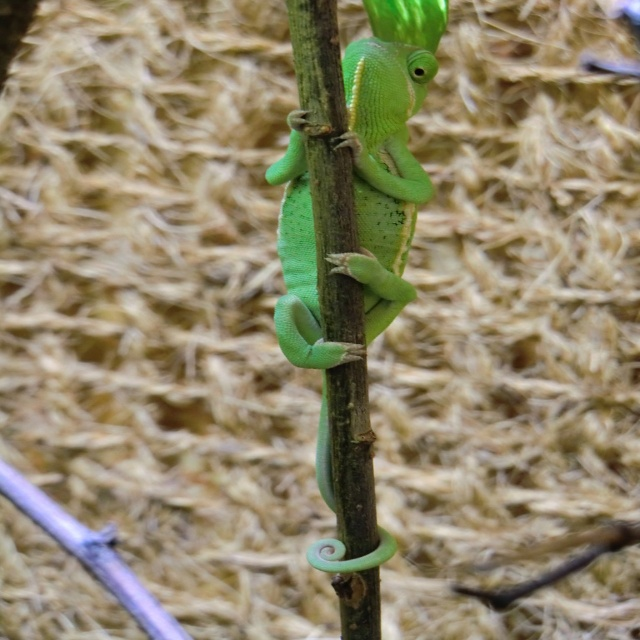Lizard: (247, 45, 458, 604)
